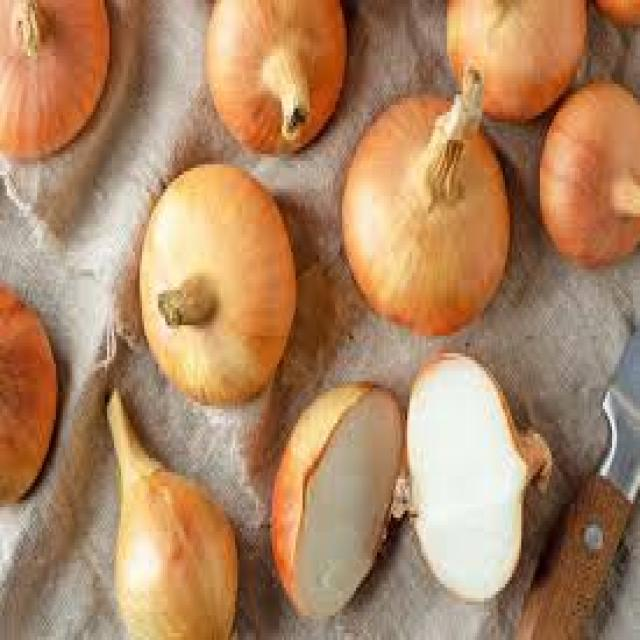Onion: (330, 77, 543, 340), (123, 152, 287, 414), (397, 346, 555, 617), (90, 381, 252, 640), (260, 372, 409, 640), (533, 70, 640, 297), (214, 0, 354, 168), (0, 264, 65, 528), (430, 0, 594, 103), (0, 0, 109, 147)
